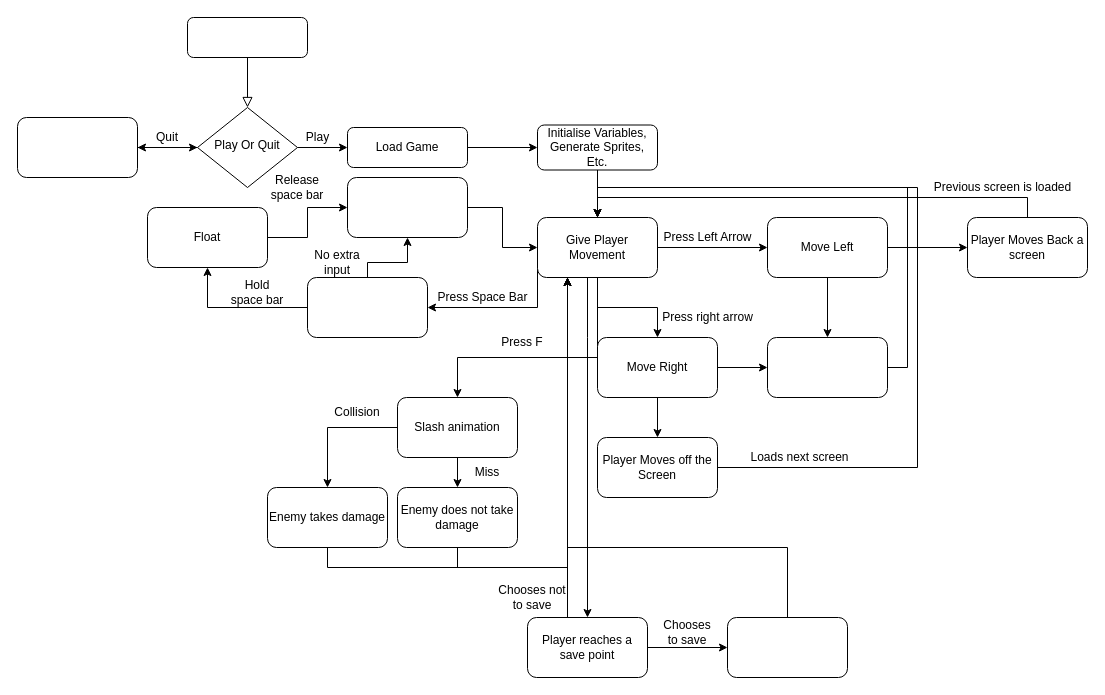
Some shapes in this 1105 by 695 pixel diagram are drawn without their labels. The shapes that lost their labels are listed below. From the top down, each one's centre as x and y in pixels, then its label:
[247,37]: Menu Screen
[77,147]: Quit the apllication and takes you to the python command prompt
[407,207]: Player moves down
[367,307]: Player moves up
[827,367]: Player can't move any further and is stopped by the screen
[787,647]: Save the keyword for player position and progress in external CSV file
